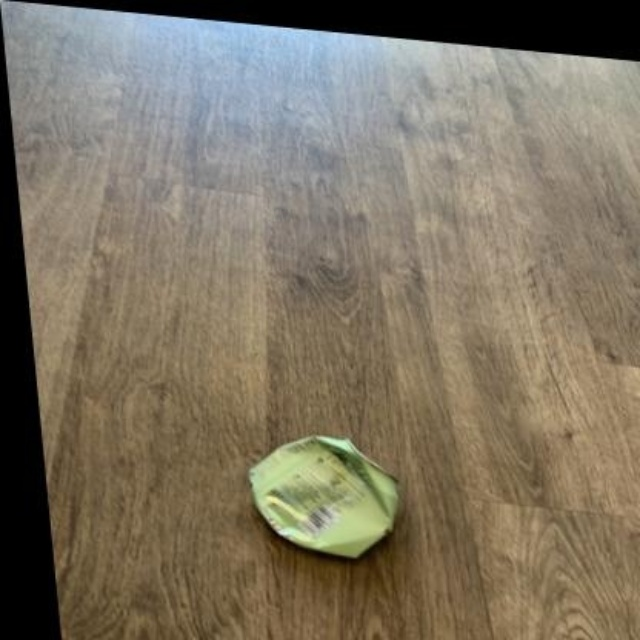trash: (249, 435, 397, 557)
